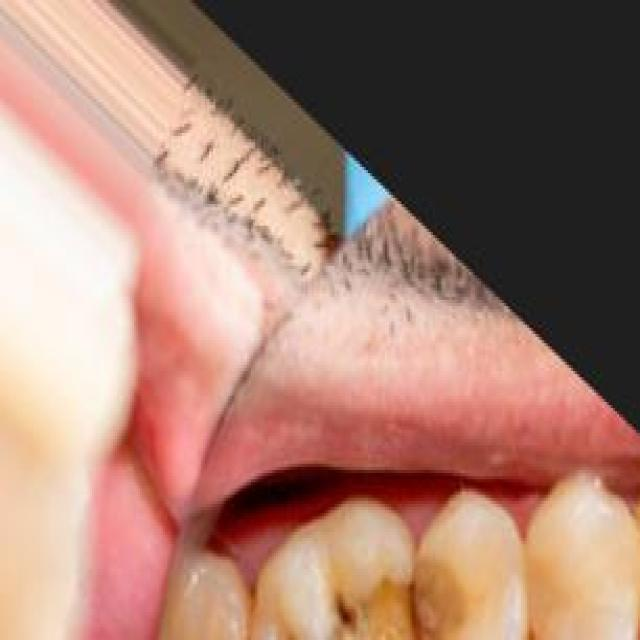caries: (309, 532, 472, 640)
